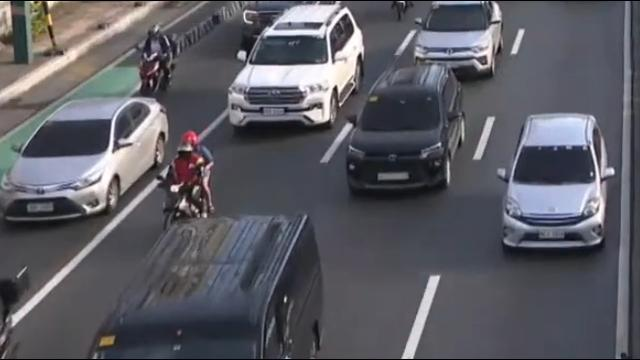car: (0, 90, 172, 233), (226, 0, 365, 133), (494, 113, 617, 252), (343, 61, 465, 195), (408, 0, 506, 78)
motorcycle: (154, 130, 213, 241), (133, 23, 177, 96)
van: (84, 209, 337, 360)
